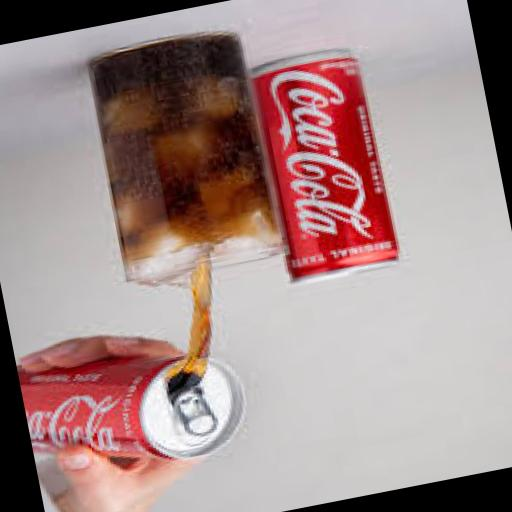Coca: (10, 286, 260, 490), (238, 37, 418, 297)
